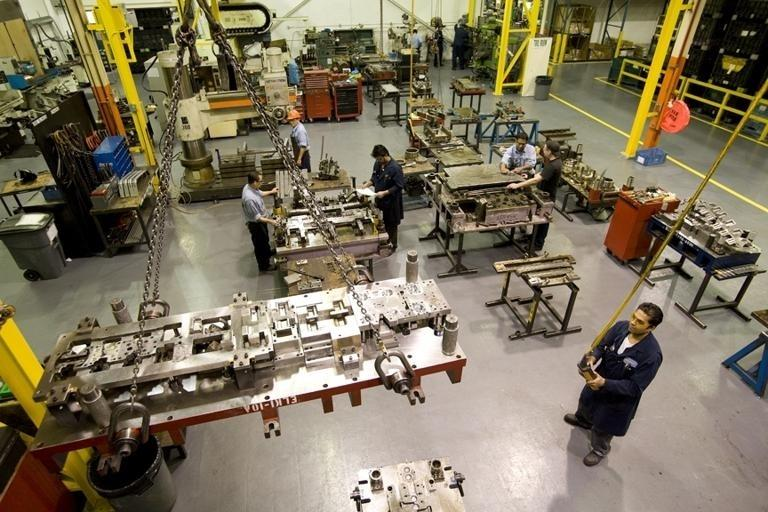capacete: (285, 105, 304, 126)
pessoa: (562, 293, 667, 474), (233, 175, 298, 279), (360, 146, 411, 258), (281, 103, 320, 169), (542, 137, 562, 243), (503, 133, 538, 179)
